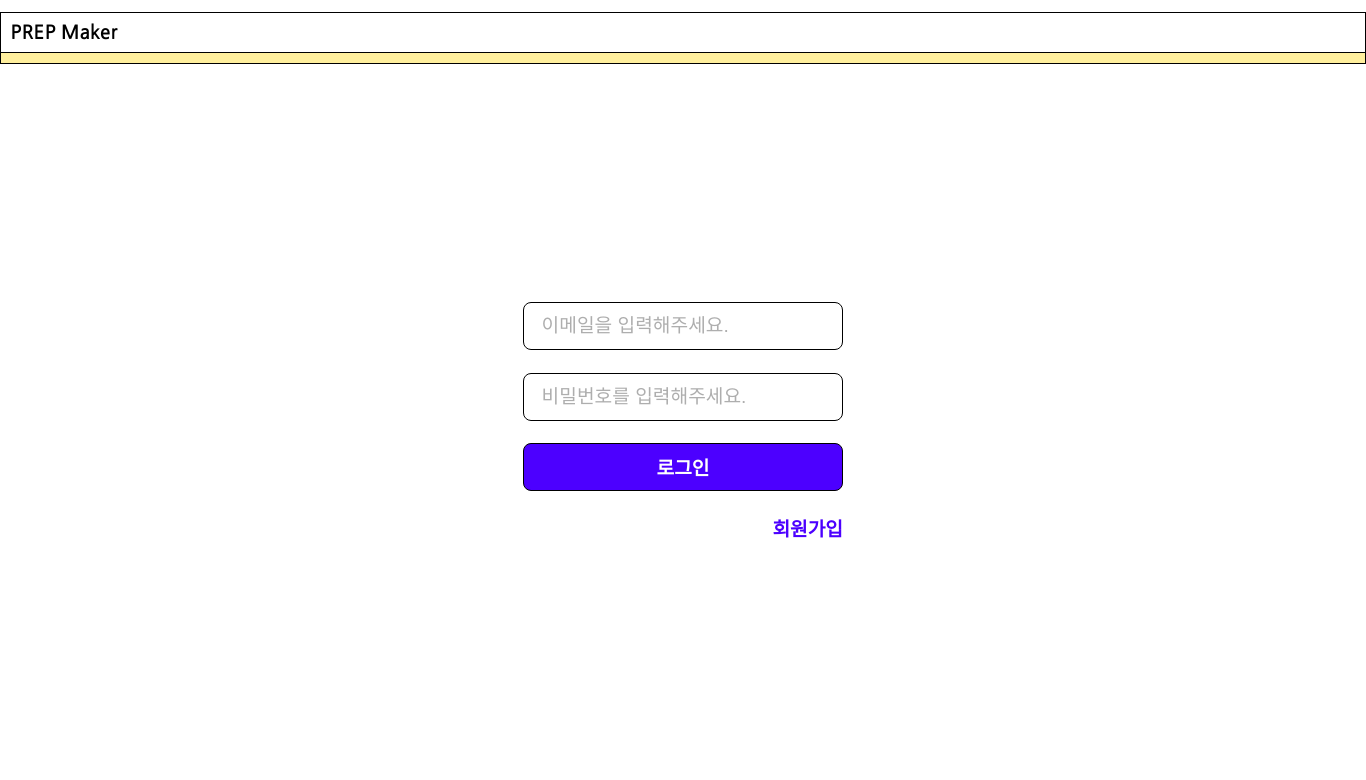
App › Writing Page › 글 생성 버튼을 클릭하면 새로운 글이 생성된다.
Type "hyemin@email.com" into the field with placeholder "이메일을 입력해주세요." at {"x": 683, "y": 326}, box [532, 311, 834, 341]
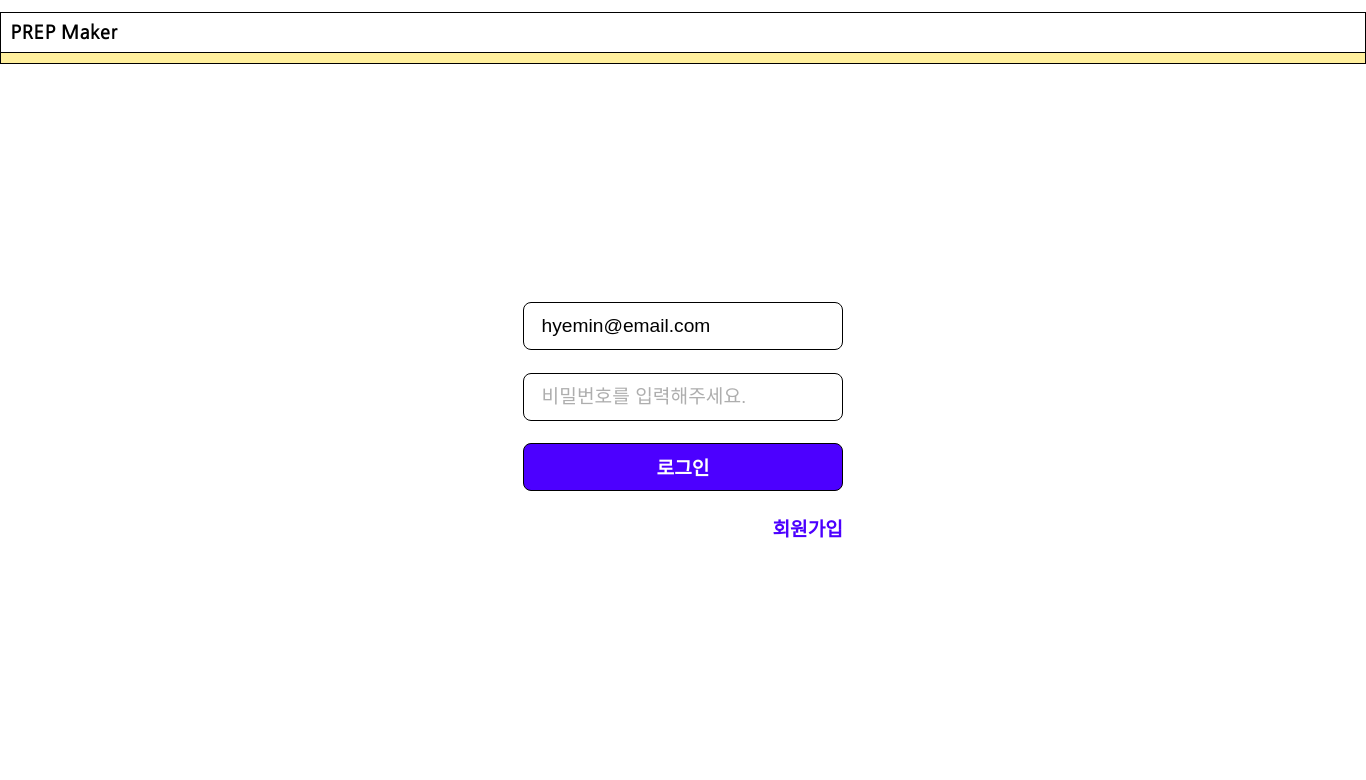
Type "password123" into the password field with placeholder "비밀번호를 입력해주세요." at {"x": 683, "y": 397}, box [532, 382, 834, 412]
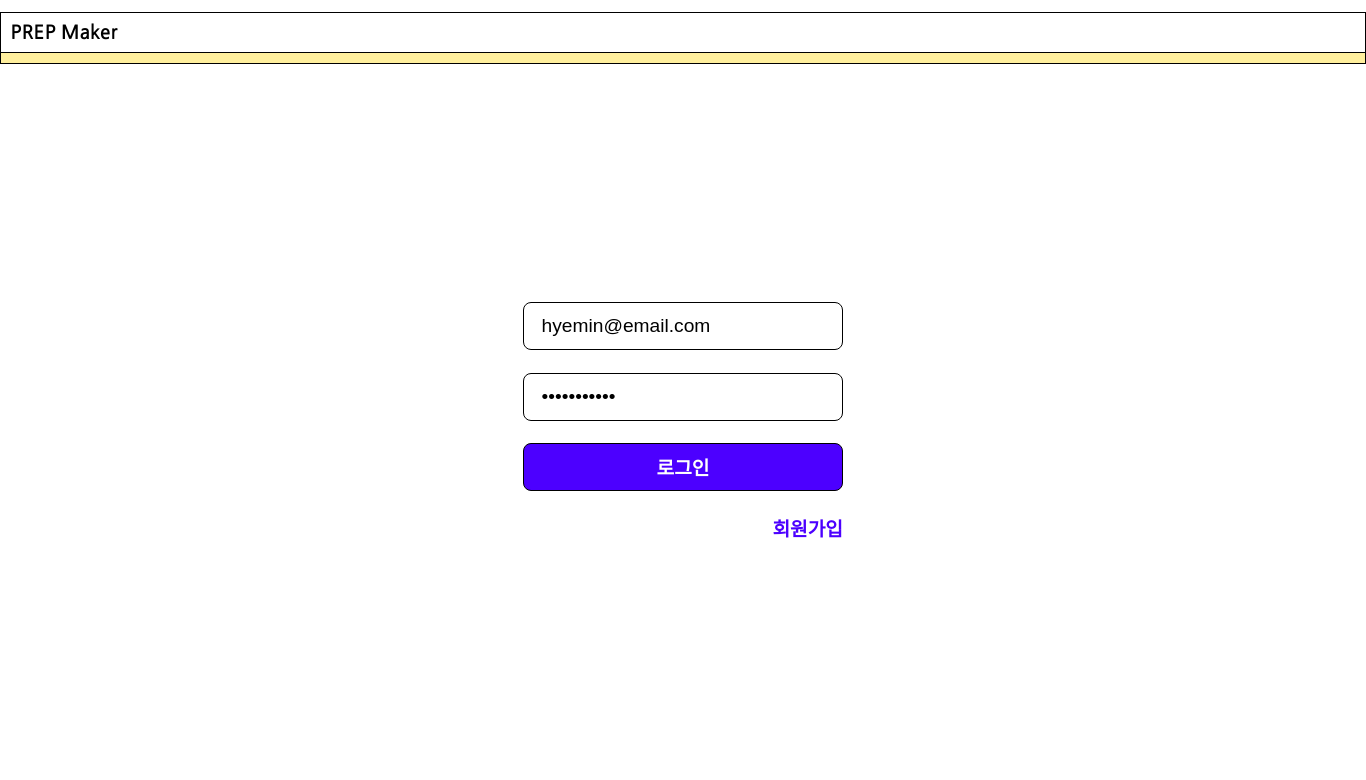
Click the button "로그인" at {"x": 683, "y": 467}, box [523, 443, 843, 491]
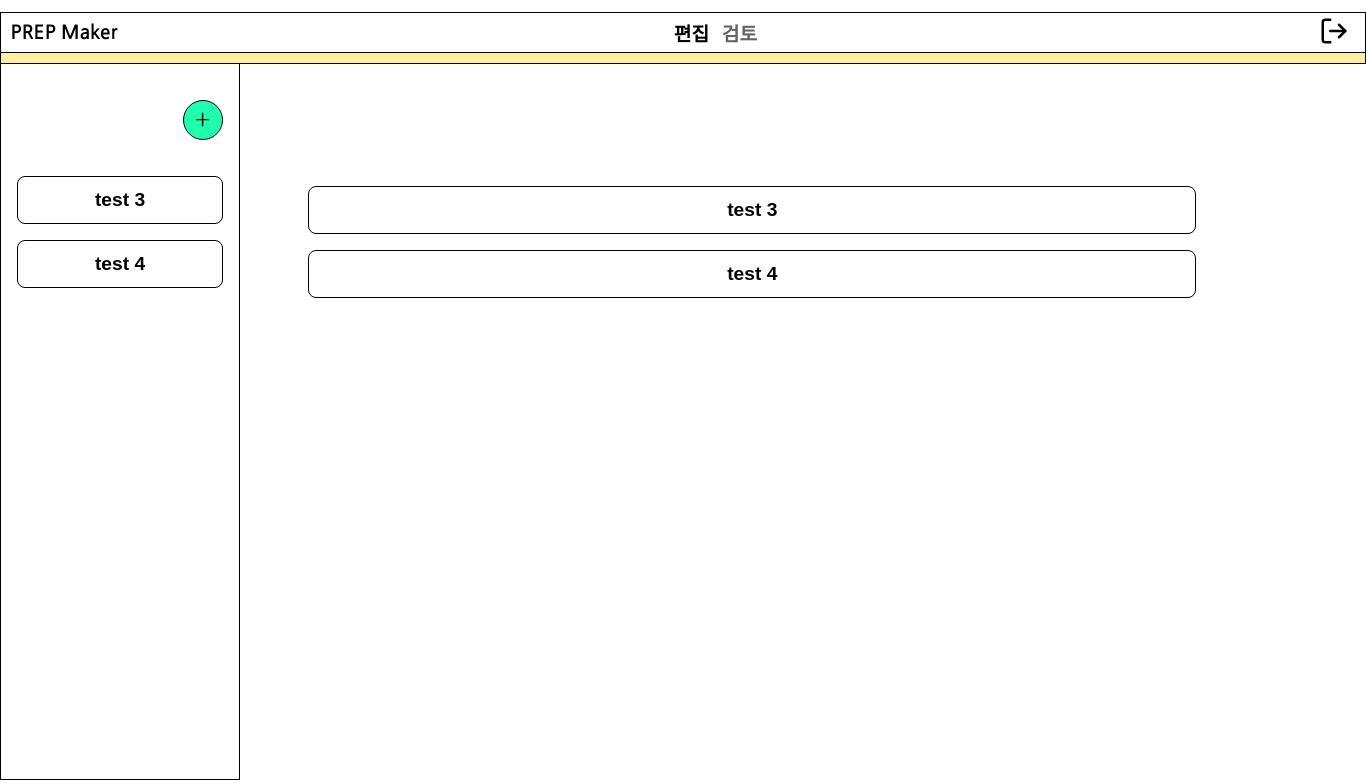
Click the button titled "add writing" at {"x": 203, "y": 120}, box [183, 100, 223, 140]
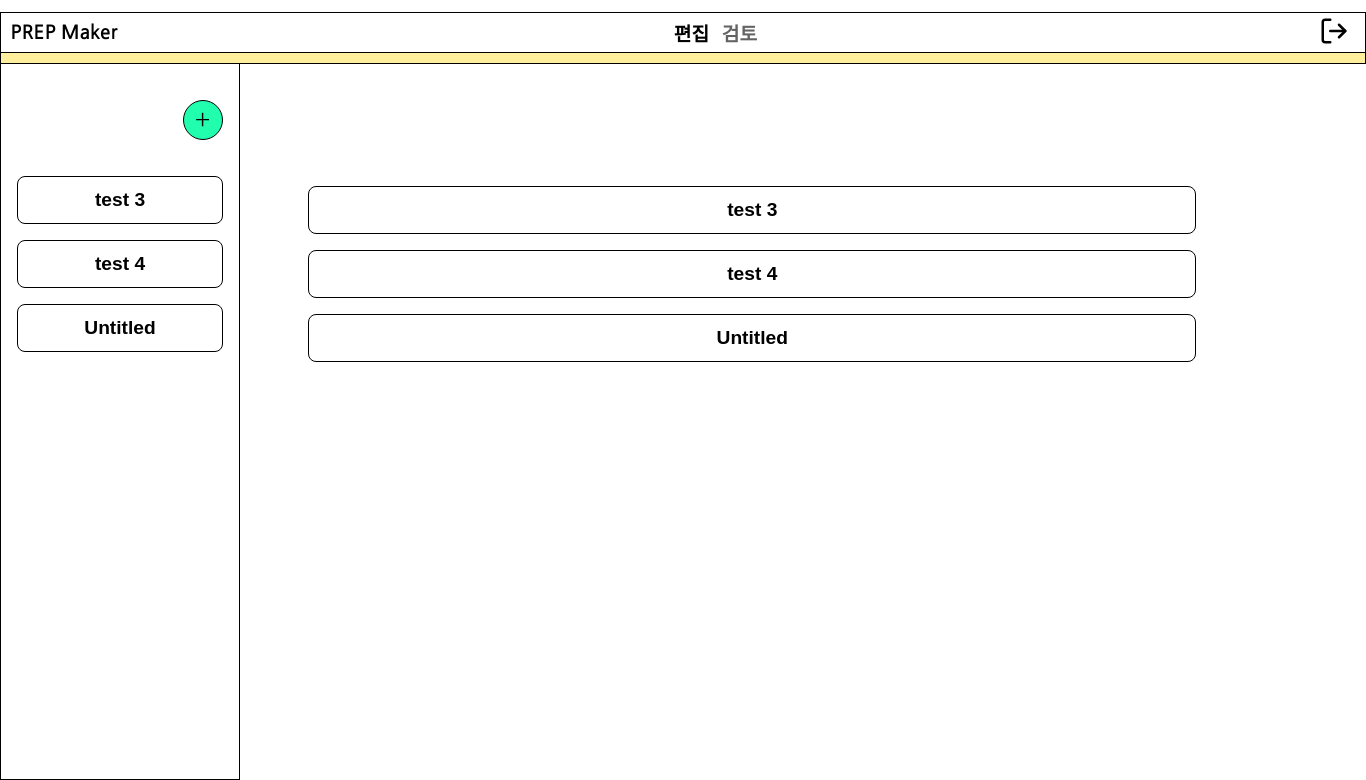
Check: the 1st button "Untitled" is shown, box [17, 304, 223, 352]
